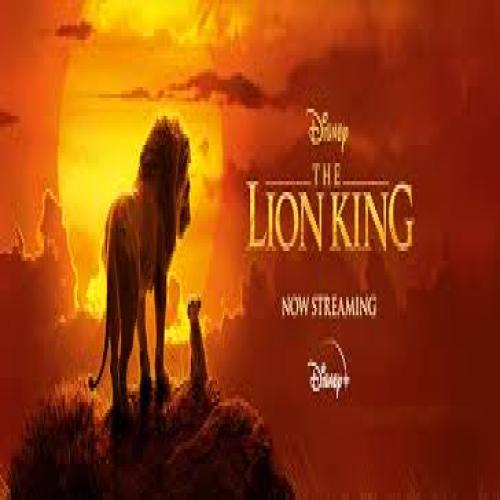lion-endangered: (86, 114, 192, 416), (184, 298, 210, 385)
